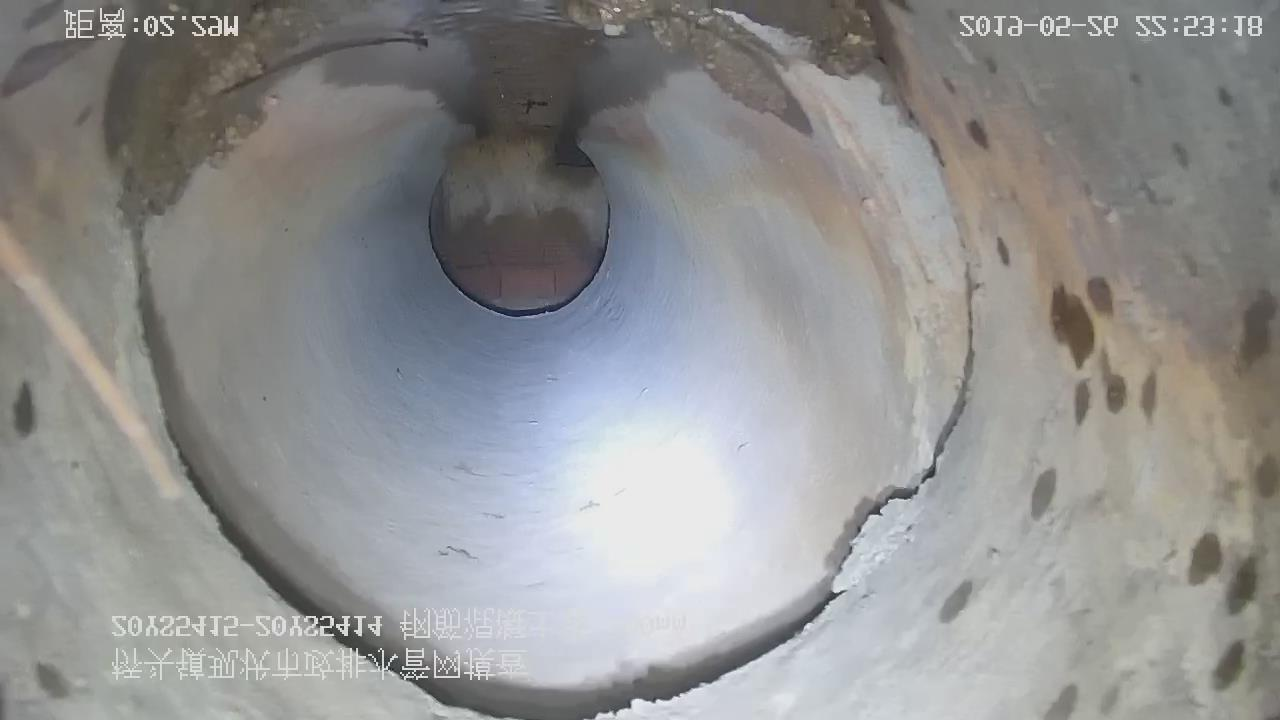CKTJ: (115, 2, 987, 717)
CQBG: (430, 132, 609, 314)
